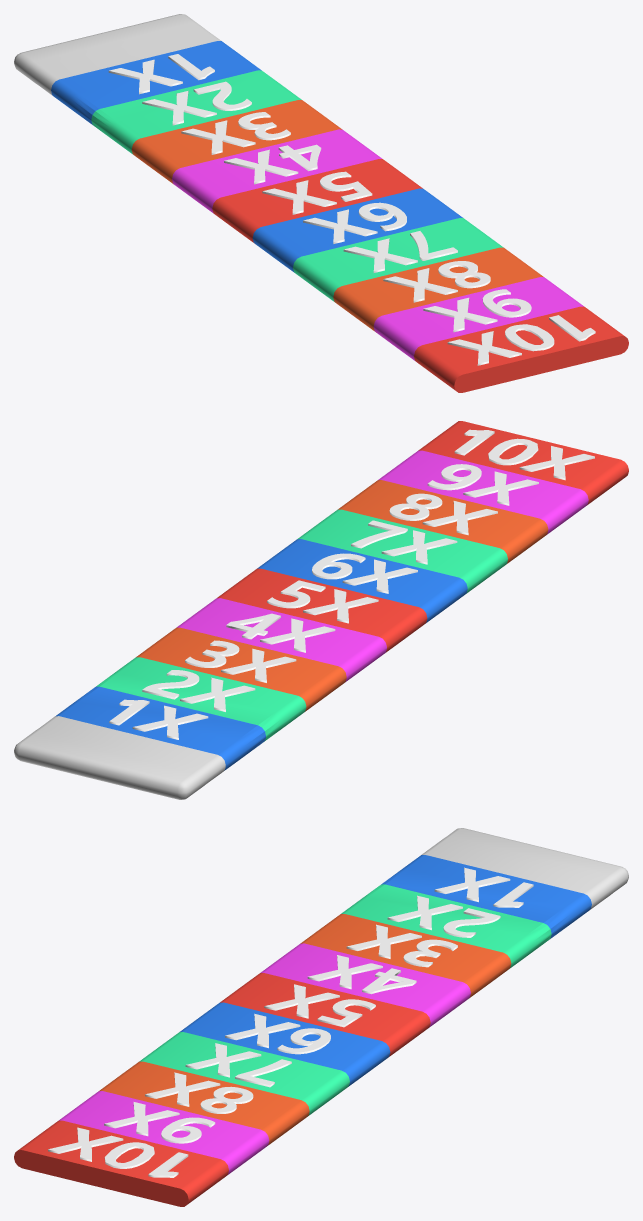
Rendered from Platform_2 (1).fbx.
3 renders of one model, top to bottom at view 1: azimuth 30°, elevation 25°; view 2: azimuth 150°, elevation 25°; view 3: azimuth 330°, elevation 25°, orthographic.
Visible parts, largest first — view 1: P10, P8, P7, P4, P5, P3, P6, P2, P9, P1, PlatformWhiteEnd; view 2: PlatformWhiteEnd, P3, P9, P7, P5, P4, P2, P10, P6, P1, P8; view 3: P10, P8, P7, P4, P5, P3, P6, P2, P9, P1, PlatformWhiteEnd.
Part boxes in pixels (x1,y1,x2,y2): P10: [414, 306, 628, 392]; P8: [333, 247, 543, 332]; P7: [293, 218, 503, 302]; P4: [172, 129, 382, 214]; P5: [212, 159, 422, 243]; P3: [131, 100, 342, 184]; P6: [252, 188, 462, 272]; P2: [91, 70, 301, 153]; P9: [373, 277, 583, 360]; P1: [51, 41, 261, 124]; PlatformWhiteEnd: [14, 14, 221, 97]; PlatformWhiteEnd: [14, 716, 225, 799]; P3: [136, 627, 346, 711]; P9: [378, 450, 588, 534]; P7: [297, 509, 507, 593]; P5: [217, 568, 427, 652]; P4: [177, 598, 386, 682]; P2: [96, 657, 306, 741]; P10: [418, 421, 628, 505]; P6: [257, 539, 467, 622]; P1: [55, 686, 265, 770]; P8: [338, 480, 548, 563]; P10: [14, 1120, 228, 1206]; P8: [99, 1061, 309, 1146]; P7: [139, 1032, 349, 1116]; P4: [260, 943, 470, 1028]; P5: [220, 973, 430, 1057]; P3: [300, 914, 511, 998]; P6: [180, 1002, 390, 1086]; P2: [341, 884, 551, 967]; P9: [59, 1091, 269, 1174]; P1: [381, 855, 591, 938]; PlatformWhiteEnd: [421, 828, 628, 911].
Size of the model in its own units: 98.19 by 10.86 by 432.
